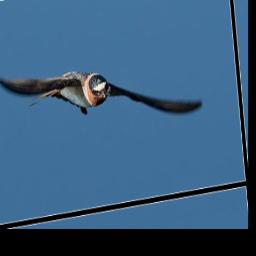Swallow: (0, 33, 204, 145)
